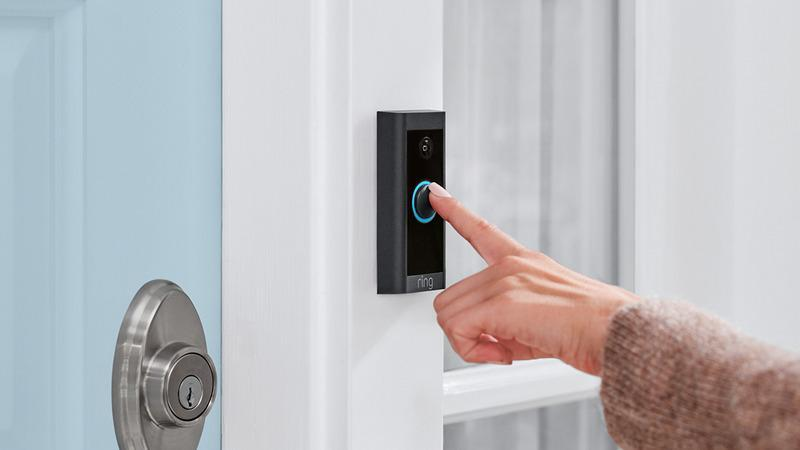doorbell: (372, 100, 459, 310)
